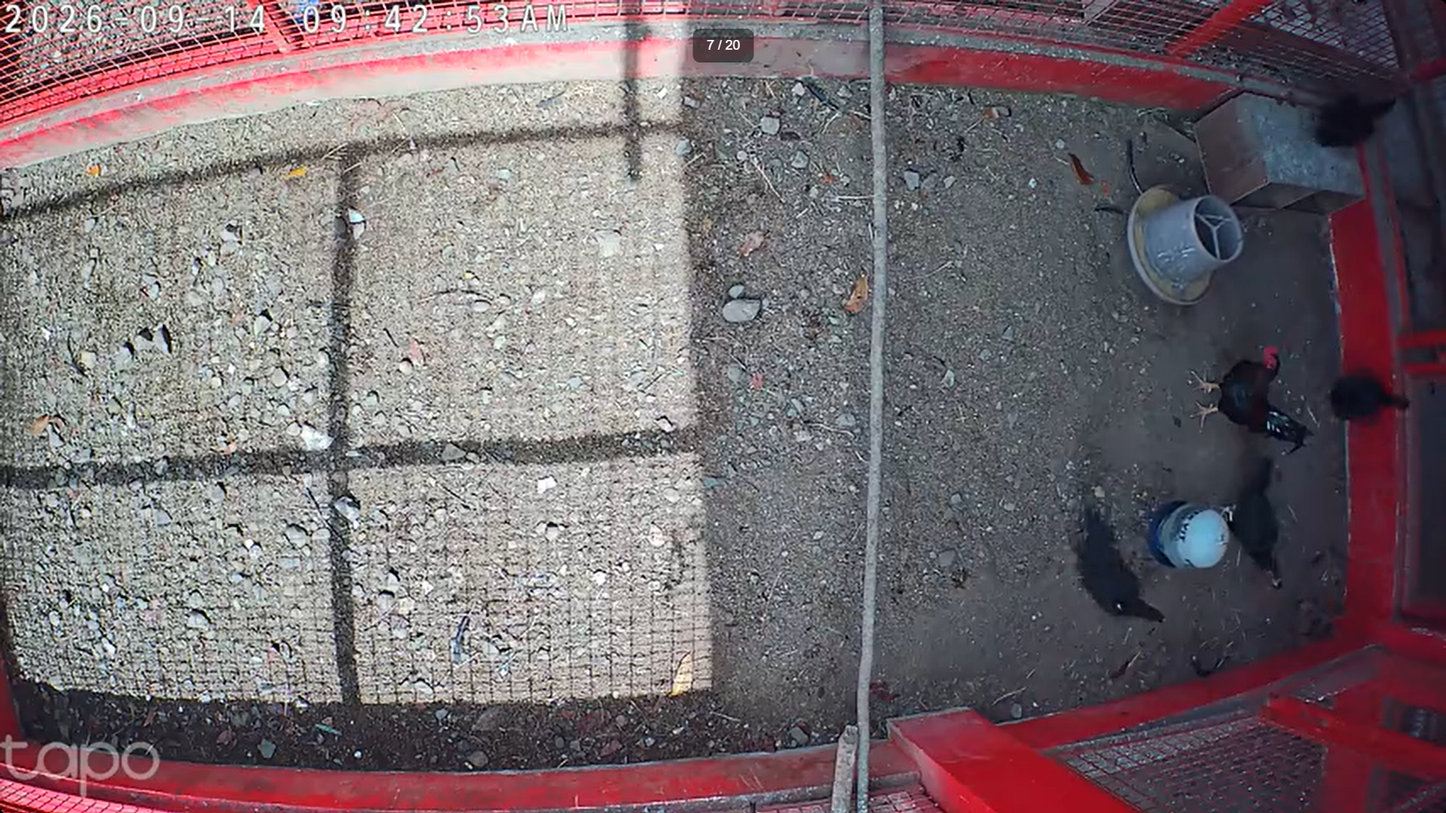Chicken: (1212, 450, 1284, 590)
